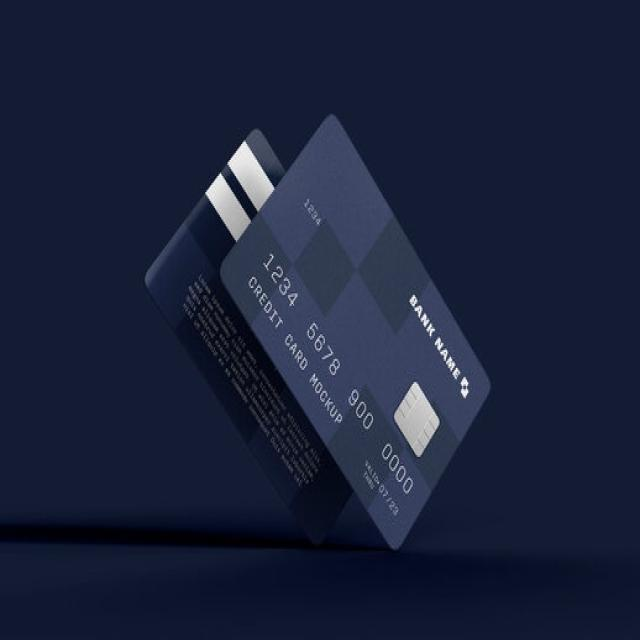payment_card: (217, 111, 492, 550)
